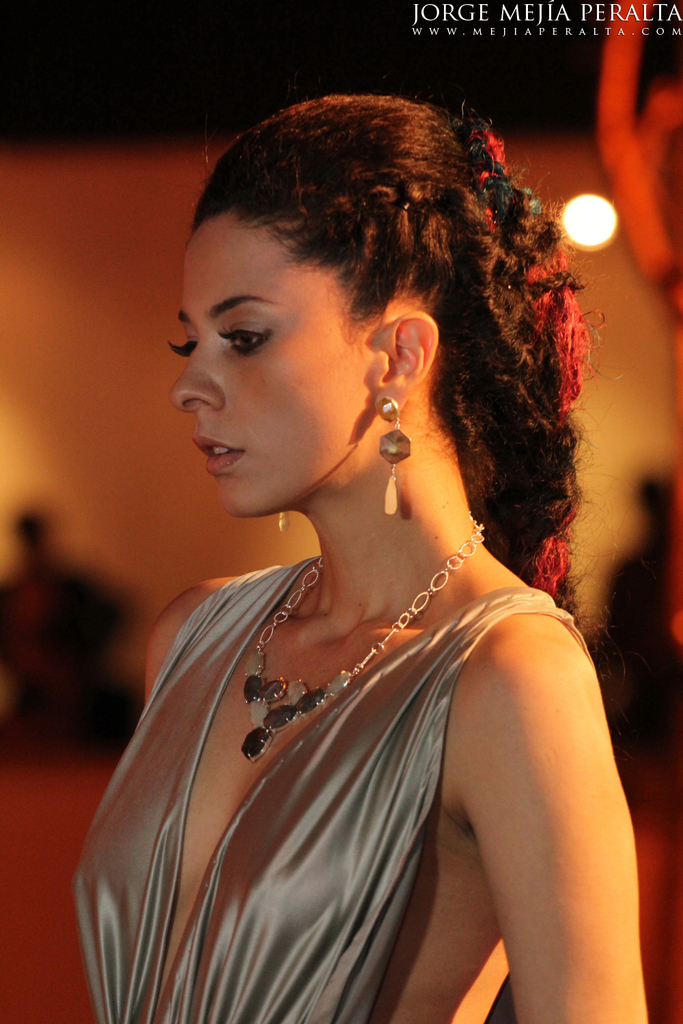face: (167, 211, 385, 518)
person: (70, 92, 618, 1022)
